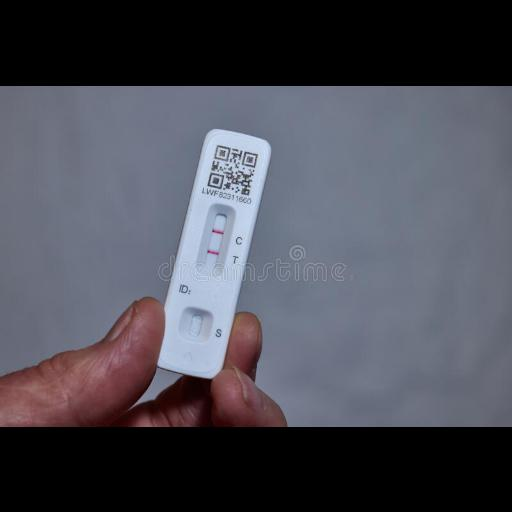Pos: (152, 123, 277, 383)
